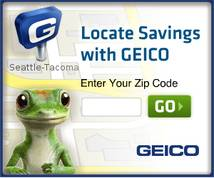geico: (135, 143, 202, 158)
